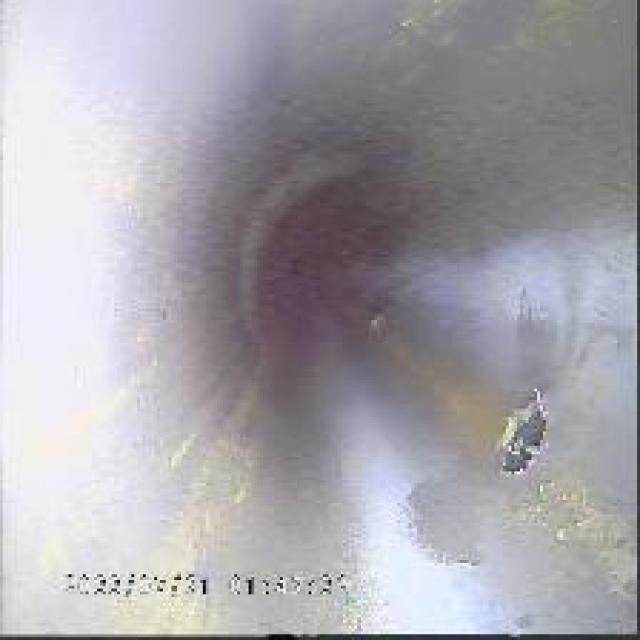ferrule: (472, 388, 572, 486)
